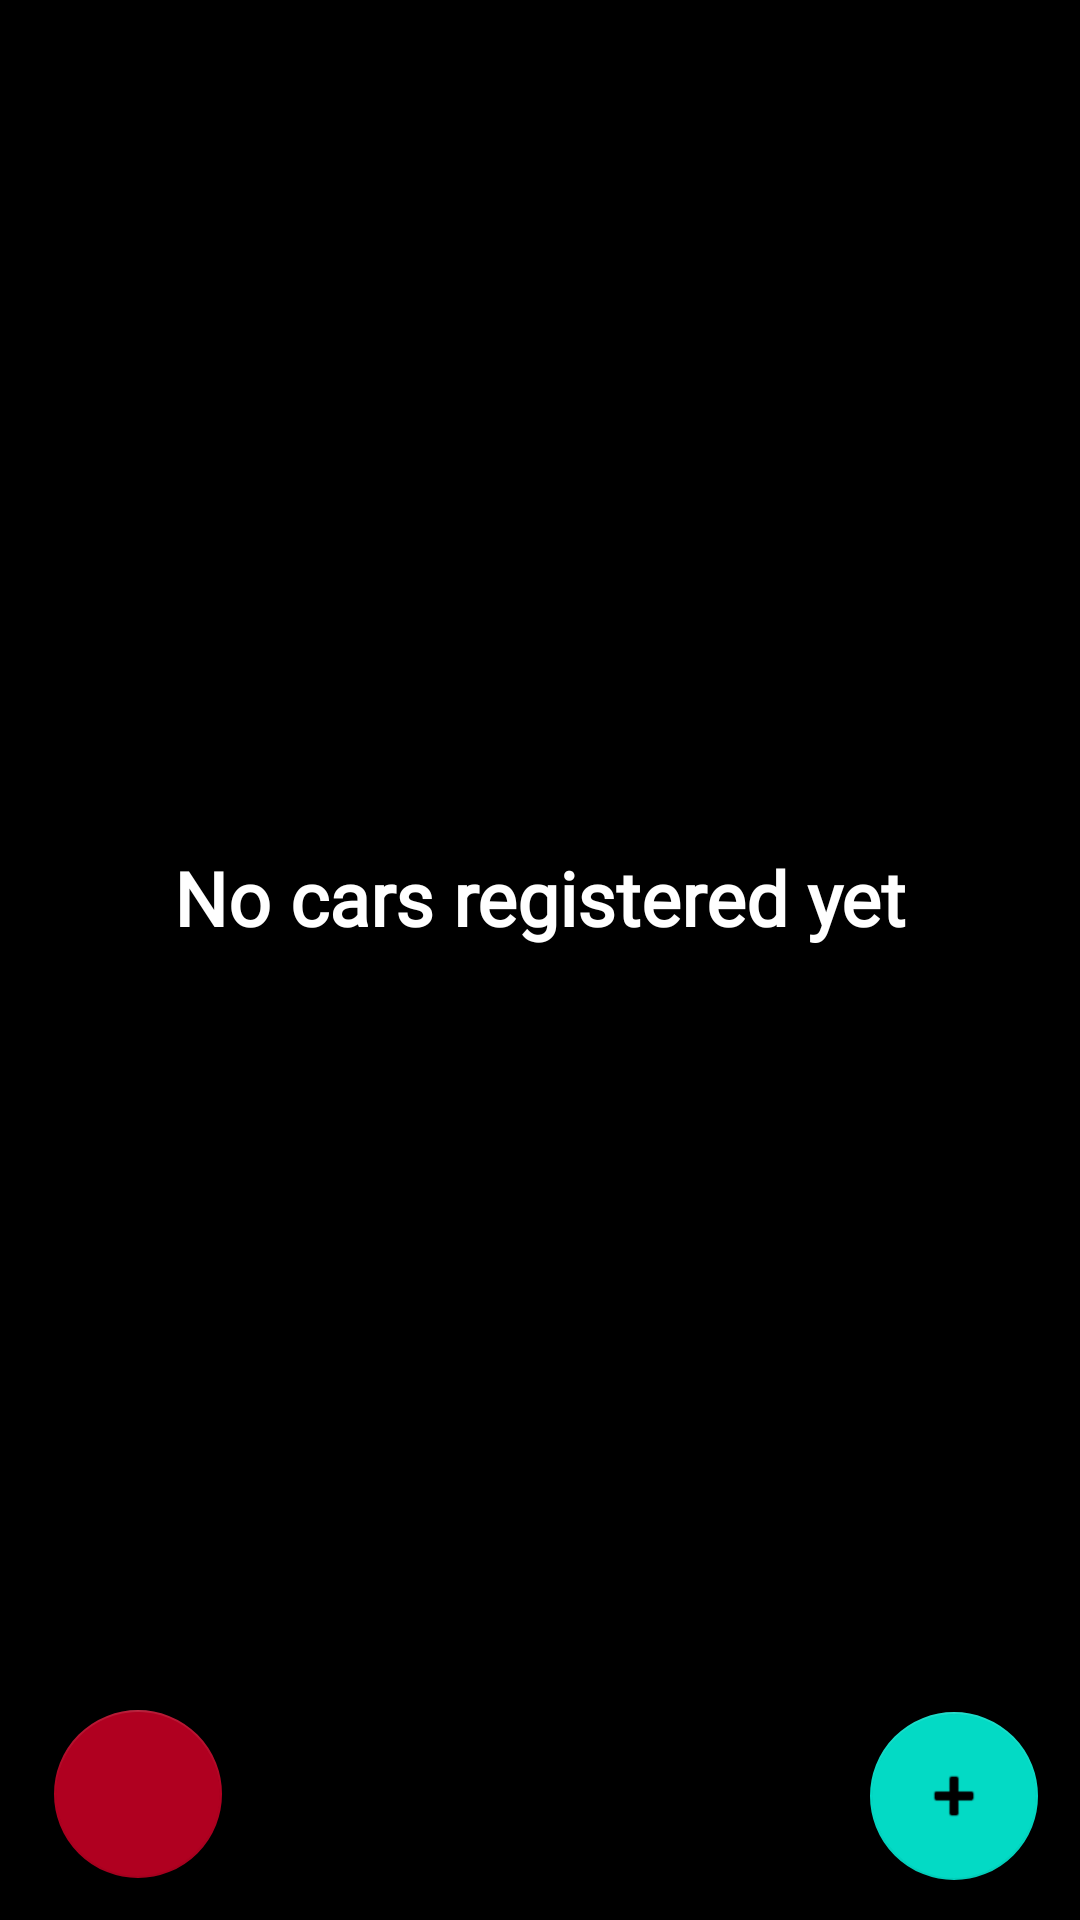

Named icons in this screenshot (1080px×1920px) and their bounding boxes, (x1, y1, x2, y2):
add: (870, 1712, 1038, 1880)
